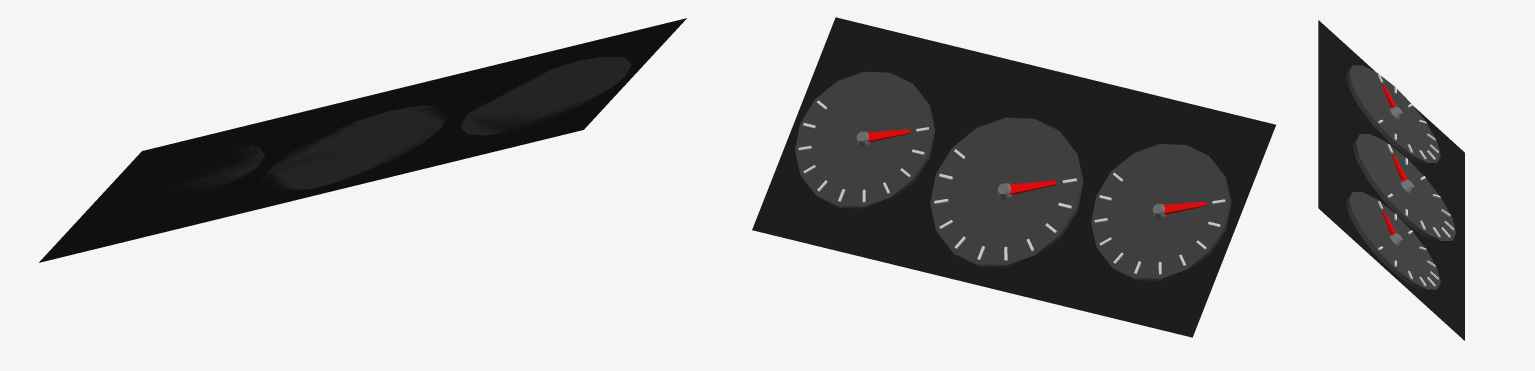
Rendered from Leg_YiBiaoPan2_1X3_01.FBX.
3 renders of one model, left to right at view 1: azimuth 30°, elevation 25°; view 2: azimuth 150°, elevation 25°; view 3: azimuth 270°, elevation 25°, orthographic. The views are drawn at different scales.
Parts seen in each view (by area): view 1: Box001; view 2: Box001; view 3: Box001.
Boxes of the visible parts, left/top/right/bottom form: Box001: left=39, top=18, right=686, bottom=262; Box001: left=752, top=17, right=1275, bottom=337; Box001: left=1318, top=20, right=1464, bottom=340.
Size of the model in its own units: 3 by 1 by 1.28.
